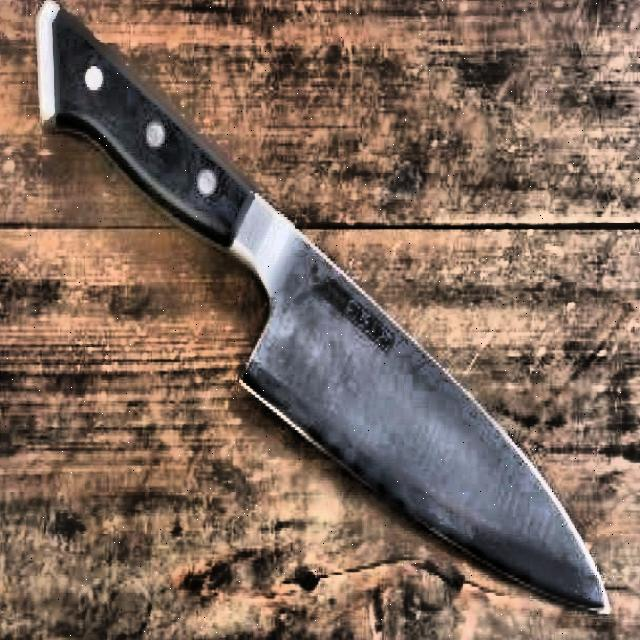knife: (38, 0, 612, 622)
